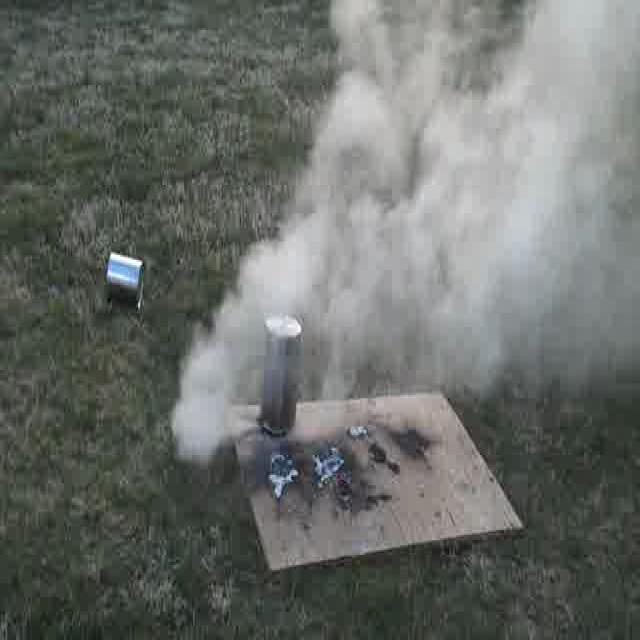Smoke: (308, 4, 638, 388), (178, 268, 266, 464)
